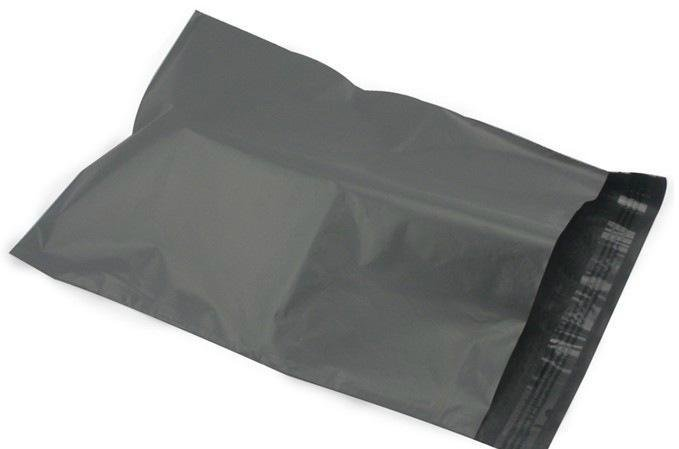Parcel: (12, 12, 665, 448)
